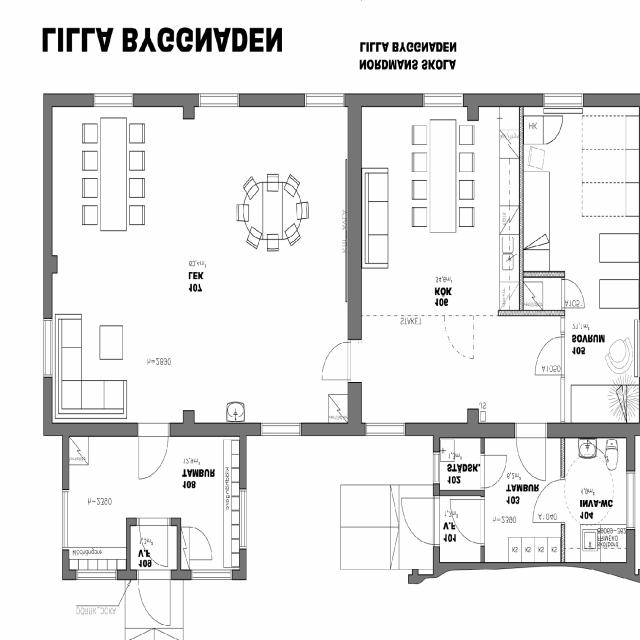door: (138, 570, 170, 625), (402, 498, 440, 544), (516, 423, 546, 480), (139, 423, 168, 478), (450, 499, 485, 543), (532, 478, 564, 522), (140, 518, 168, 567), (322, 341, 351, 380), (535, 337, 565, 374), (481, 455, 507, 488), (561, 279, 584, 307)
